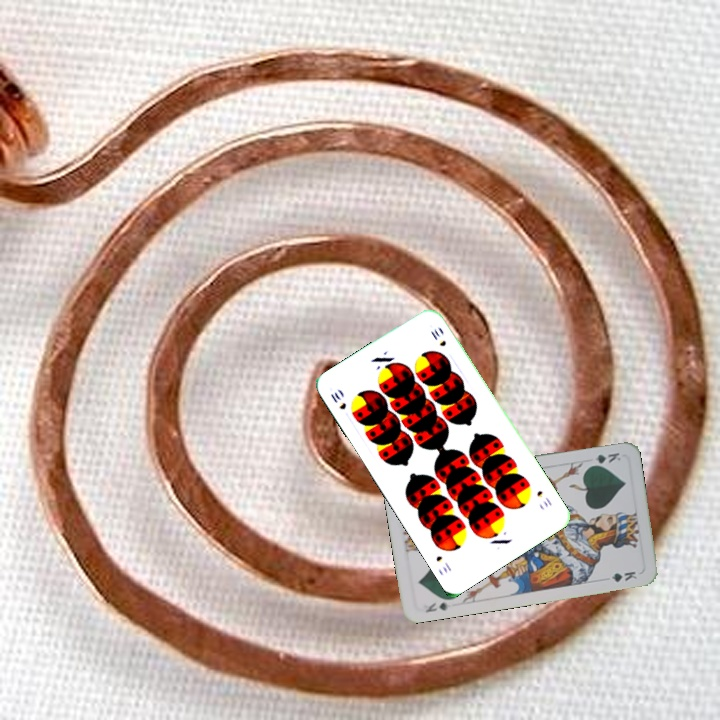GK: (585, 448, 623, 469), (421, 598, 453, 615)
S10: (326, 388, 349, 412), (533, 486, 555, 510)
